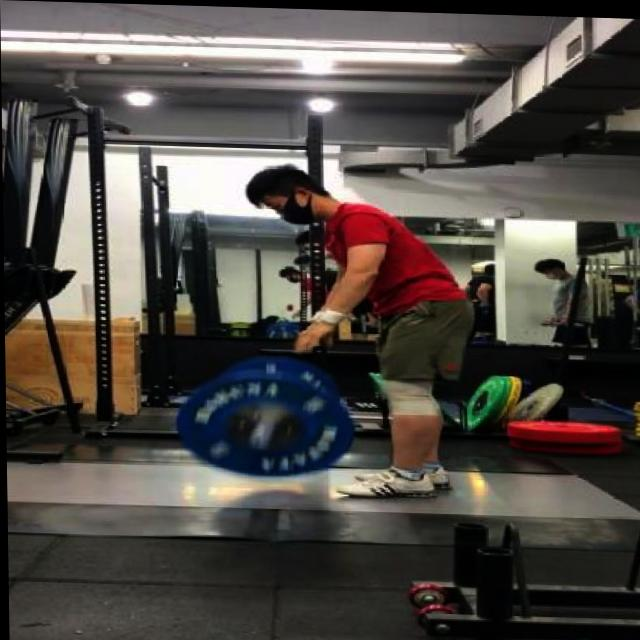barbell: (169, 368, 358, 480)
